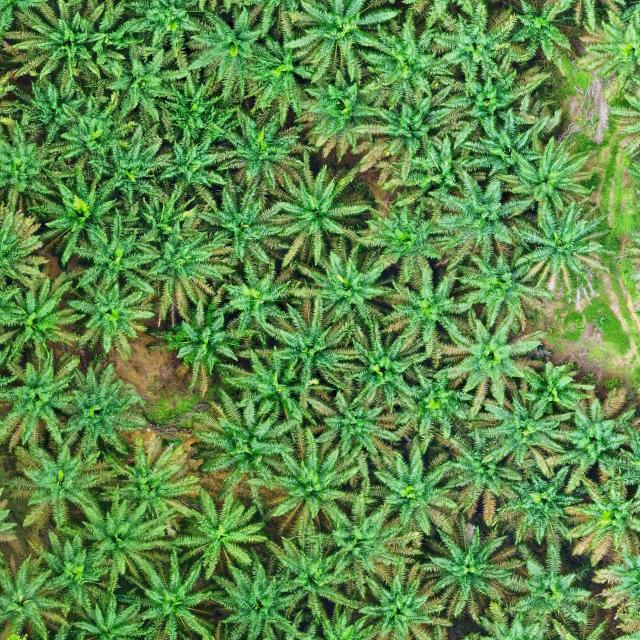Tree: (413, 520, 545, 624), (8, 0, 148, 97), (303, 492, 427, 598), (436, 304, 547, 416), (254, 288, 366, 398), (266, 160, 376, 270), (3, 432, 120, 535), (427, 162, 544, 264), (188, 388, 302, 490), (373, 130, 495, 224), (348, 85, 469, 179), (288, 234, 397, 338), (212, 97, 324, 198), (349, 9, 458, 112), (445, 242, 556, 342), (150, 292, 252, 398), (262, 431, 366, 534), (367, 434, 465, 540), (285, 0, 406, 85), (163, 486, 269, 582), (191, 183, 297, 278), (456, 100, 562, 194), (204, 547, 311, 640), (514, 197, 613, 297), (259, 526, 362, 622), (323, 322, 428, 416), (286, 64, 385, 162), (70, 494, 168, 593), (355, 191, 457, 286), (379, 261, 478, 358), (185, 0, 276, 105), (92, 38, 195, 130), (98, 434, 201, 526), (123, 552, 230, 640), (56, 359, 152, 456), (217, 342, 320, 432), (149, 223, 235, 329), (437, 425, 526, 526), (39, 167, 128, 268), (0, 342, 84, 448), (496, 132, 599, 218), (65, 265, 156, 362), (152, 65, 251, 154), (496, 539, 592, 630), (436, 62, 536, 147), (23, 526, 116, 617), (489, 460, 585, 548), (244, 27, 324, 132), (0, 268, 87, 364), (223, 256, 312, 349), (350, 562, 454, 640), (545, 390, 638, 476), (44, 85, 138, 170), (466, 394, 572, 469), (428, 0, 524, 82), (561, 472, 640, 569), (388, 363, 477, 449), (302, 386, 405, 460), (114, 0, 216, 72), (147, 126, 230, 213), (575, 0, 640, 104), (0, 552, 72, 639), (89, 124, 181, 191), (0, 116, 62, 212), (517, 358, 605, 422), (0, 198, 51, 307), (131, 184, 202, 262), (506, 0, 580, 73), (24, 72, 88, 144), (71, 592, 153, 640)
